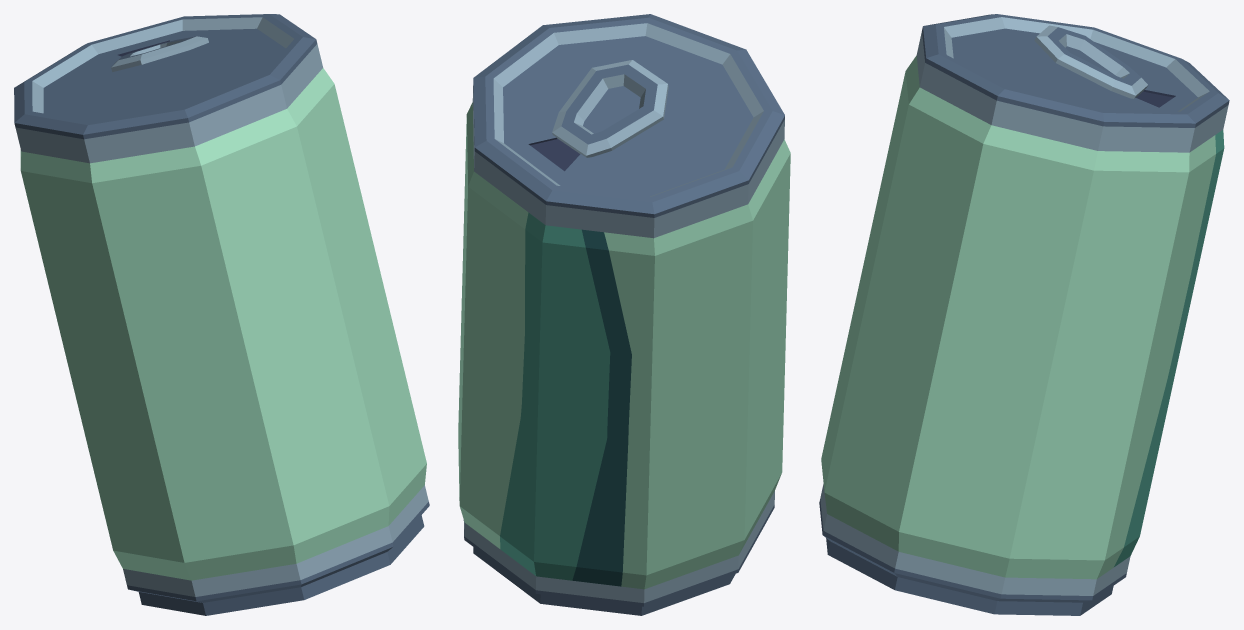
File: DrSwerve.GoodLeafDiet.fbx
3 views of the same model, side by side, from view 1: azimuth 30°, elevation 25°; view 2: azimuth 150°, elevation 25°; view 3: azimuth 270°, elevation 25° (orthographic).
Parts seen in each view (by area): view 1: DrSwerve.GoodLeafDiet; view 2: DrSwerve.GoodLeafDiet; view 3: DrSwerve.GoodLeafDiet.
Part boxes in pixels (x1,y1,x2,y2): DrSwerve.GoodLeafDiet: (14,14,429,615); DrSwerve.GoodLeafDiet: (458,14,790,615); DrSwerve.GoodLeafDiet: (819,14,1229,615).
Bounding box in the file's own units: 38.25 × 58.72 × 40.71.
